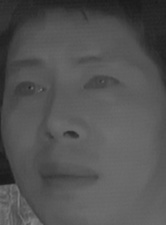eye: (80, 70, 122, 99), (10, 78, 49, 102)
mouth: (34, 157, 102, 197)
